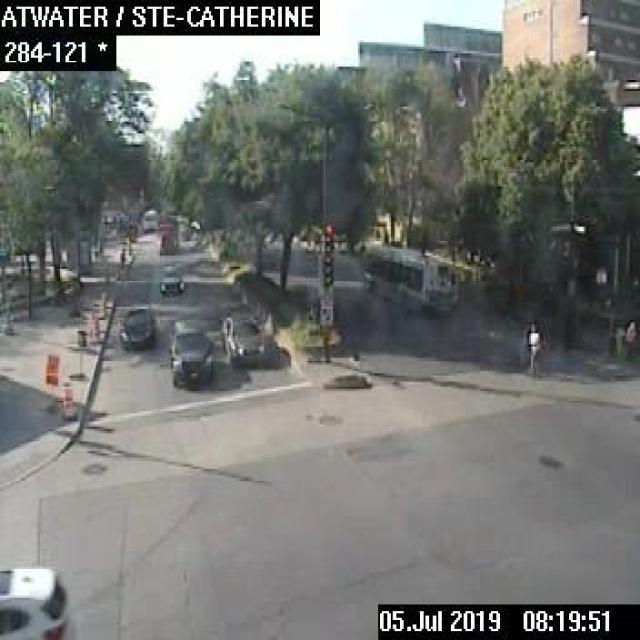bus: (358, 244, 451, 316), (141, 208, 156, 231)
construction: (44, 353, 58, 411), (62, 381, 72, 416)
pedestrian: (526, 318, 540, 373)
vehicle: (0, 562, 71, 638), (168, 317, 210, 387), (220, 312, 266, 364), (116, 305, 153, 348), (159, 264, 184, 296), (157, 215, 178, 253)
